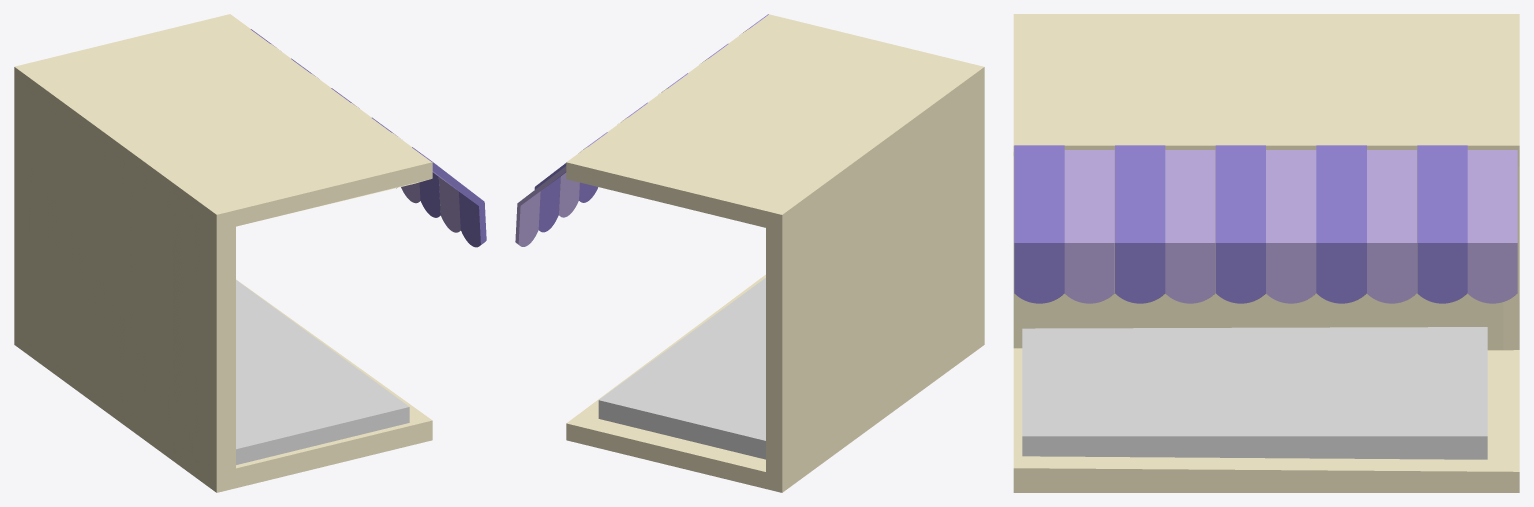
3 renders of one model, left to right at view 1: azimuth 30°, elevation 25°; view 2: azimuth 150°, elevation 25°; view 3: azimuth 270°, elevation 25°, orthographic. The views are drawn at different scales.
Parts seen in each view (by area): view 1: Cube.005, Cube.008, Plane.008, Plane.009; view 2: Cube.005, Cube.008, Plane.009, Plane.008; view 3: Cube.005, Cube.008, Plane.008, Plane.009.
Boxes of the visible parts, x1,y1,x2,y2 form: Cube.005: (14,14,432,492); Cube.008: (236,280,409,464); Plane.008: (250,29,486,247); Plane.009: (401,171,460,232); Cube.005: (566,14,984,492); Cube.008: (598,278,765,459); Plane.009: (515,166,579,246); Plane.008: (534,14,768,232); Cube.005: (1013,14,1519,492); Cube.008: (1022,327,1487,459); Plane.008: (1014,145,1467,303); Plane.009: (1064,150,1517,303).
Size of the model in its own units: 8006 by 7873 by 10381.
